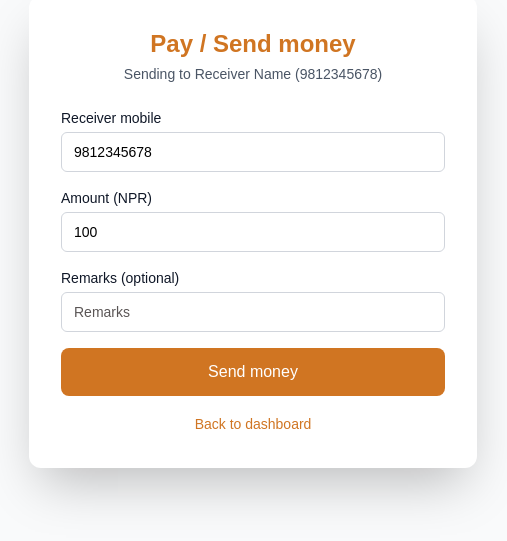
PayPage › shows API error when transfer fails
Click the button "Send money": (253, 372) [61,348,445,396]
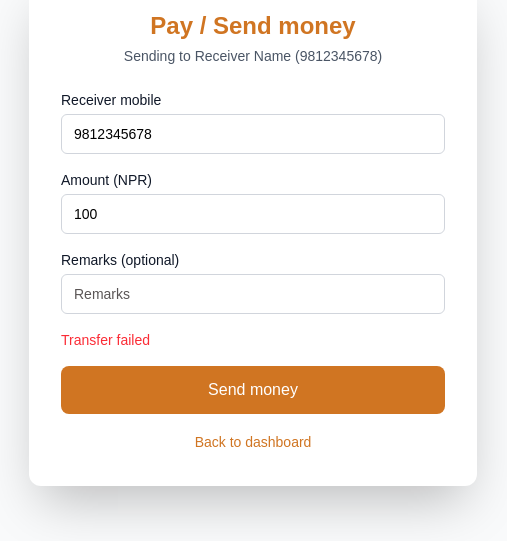
Now the text "Transfer failed" is shown, box [61,332,150,348]
